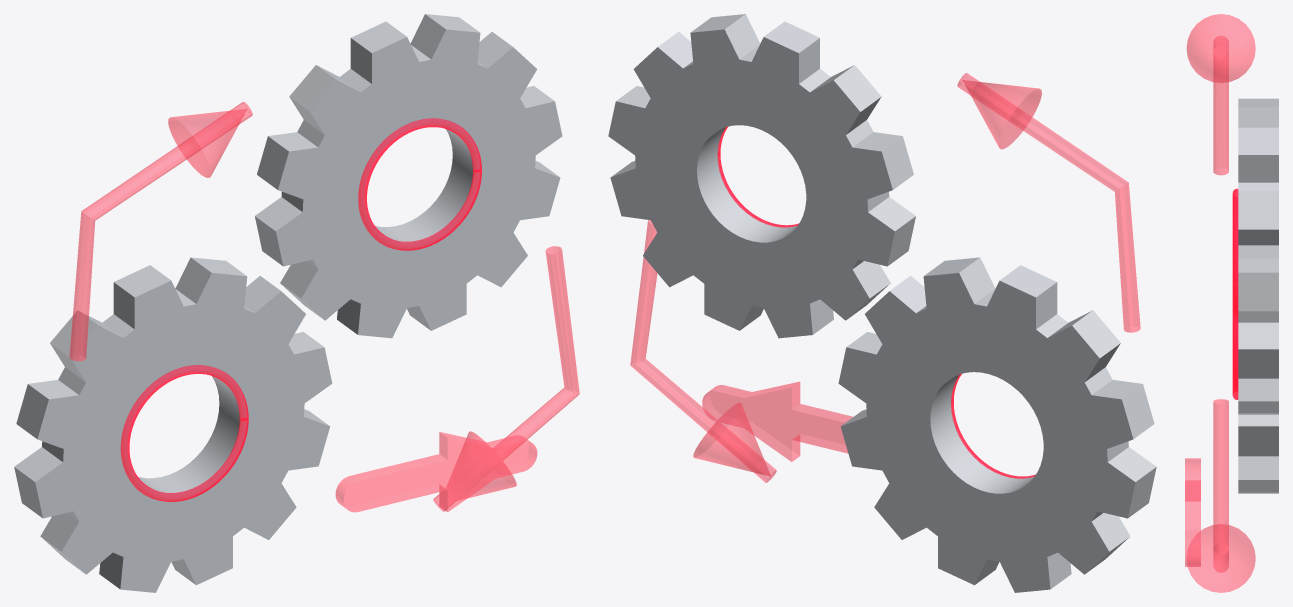
Rendered from 13-etl-integration.glb.
The picture shows the model from 3 angles, left to right: view 1: azimuth 30°, elevation 25°; view 2: azimuth 150°, elevation 25°; view 3: azimuth 270°, elevation 25°; orthographic projection. The views are drawn at different scales.
Parts seen in each view (by area): view 1: BC satin silver metal, BC ruby optical glass, BC neon red glass edge; view 2: BC satin silver metal, BC ruby optical glass, BC neon red glass edge; view 3: BC satin silver metal, BC ruby optical glass, BC neon red glass edge.
Part boxes in pixels (left/top/right/bottom): BC satin silver metal: left=14, top=14, right=562, bottom=592; BC ruby optical glass: left=69, top=102, right=579, bottom=512; BC neon red glass edge: left=120, top=118, right=481, bottom=501; BC satin silver metal: left=608, top=14, right=1156, bottom=592; BC ruby optical glass: left=630, top=73, right=1140, bottom=482; BC neon red glass edge: left=717, top=126, right=1035, bottom=478; BC satin silver metal: left=1238, top=98, right=1278, bottom=493; BC ruby optical glass: left=1185, top=14, right=1255, bottom=592; BC neon red glass edge: left=1232, top=188, right=1238, bottom=399.
Bounding box in the file's own units: 2.04 × 1.82 × 0.325.
